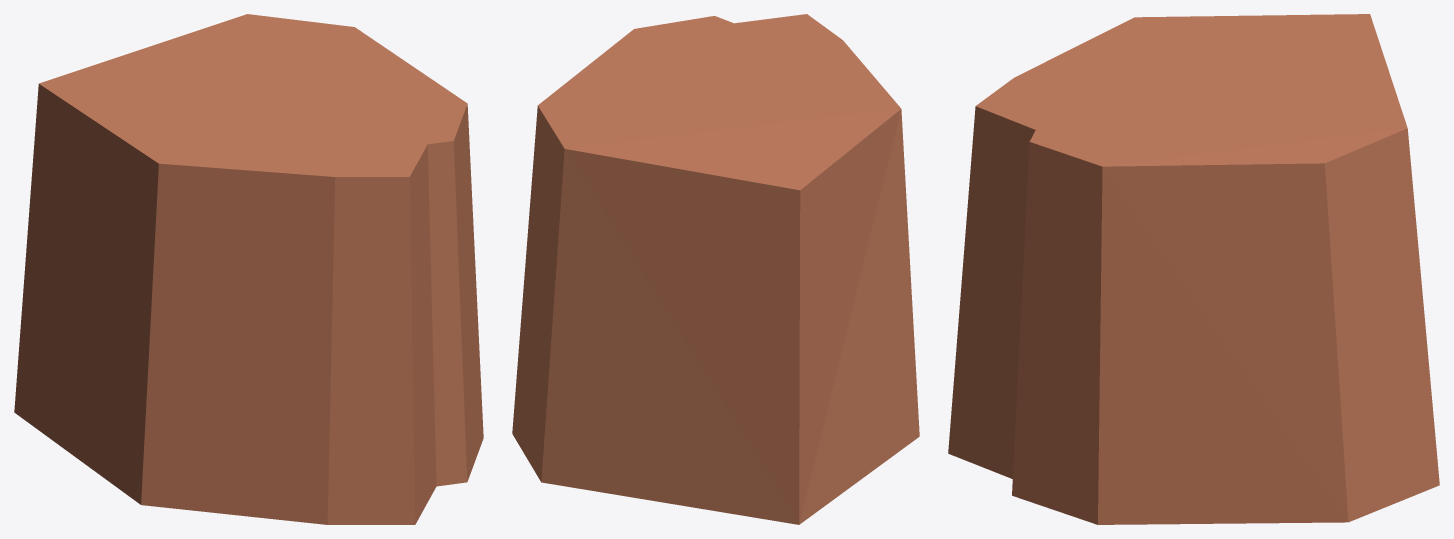
File: west_rock12.FBX
3 views of the same model, side by side, from view 1: azimuth 30°, elevation 25°; view 2: azimuth 150°, elevation 25°; view 3: azimuth 270°, elevation 25° (orthographic). The views are drawn at different scales.
Visible parts, largest first — view 1: west_rock12; view 2: west_rock12; view 3: west_rock12.
Boxes of the visible parts, box(x1,y1,x2,y2) form: west_rock12: box(14, 14, 483, 524); west_rock12: box(512, 14, 919, 524); west_rock12: box(948, 14, 1439, 524).
Bounding box in the file's own units: 1521 × 1504 × 1902.
Materials: 1 (1 with a texture image).
